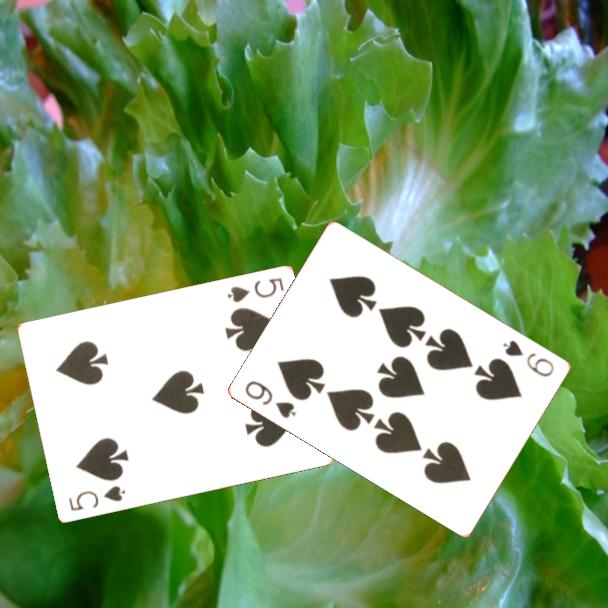s05: (223, 274, 287, 306), (65, 482, 128, 514)
s09: (242, 377, 300, 421), (500, 336, 557, 380)
